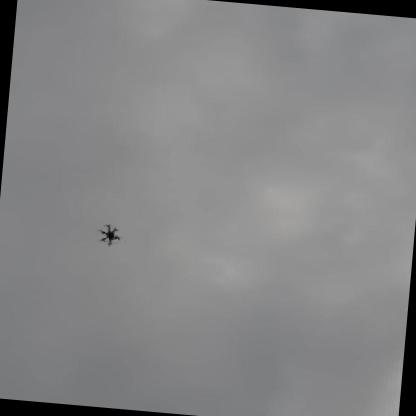drone: (89, 220, 129, 253)
